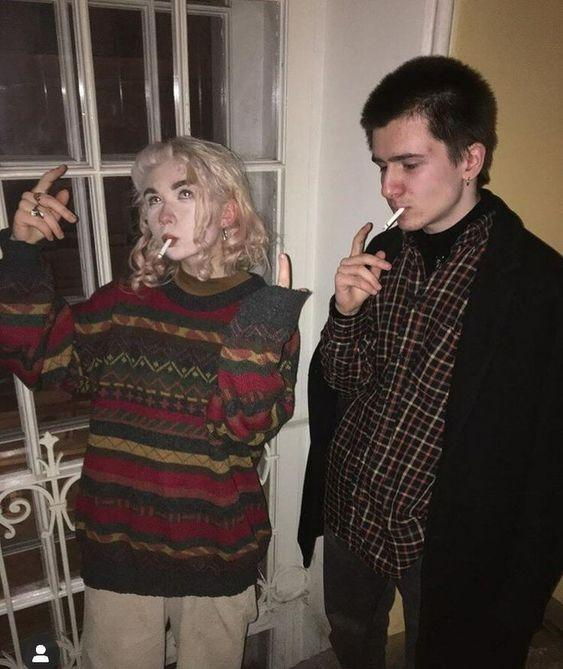cigarette: (383, 208, 406, 231), (157, 239, 172, 259)
